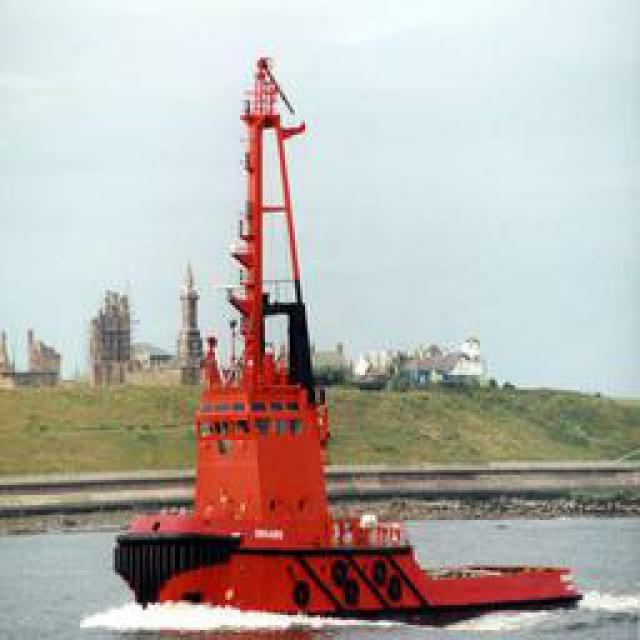Ship: (102, 21, 597, 625)
